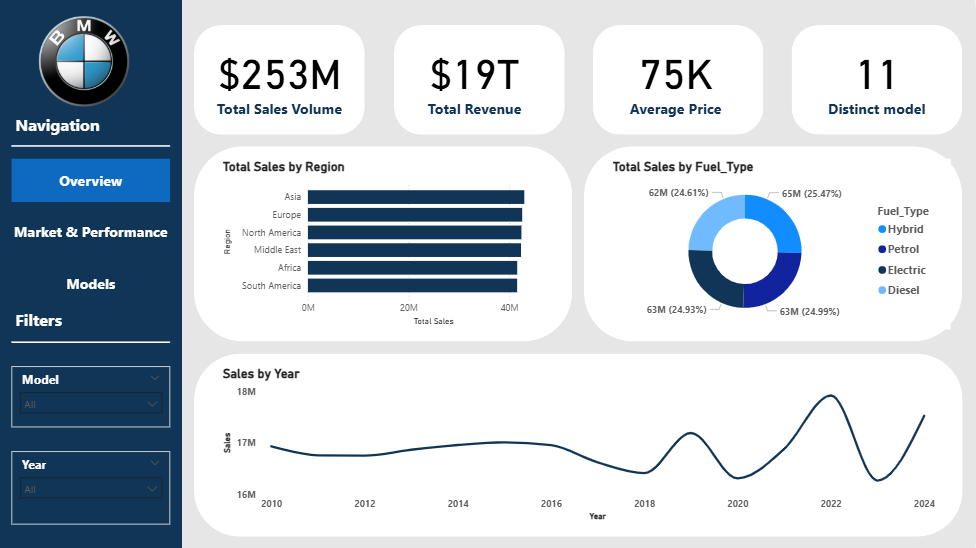

The dashboard page shown, as its layout file describes it:
{"tool":"powerbi","page":{"name":"Overview","canvas":[1280,720],"ordinal":0},"visuals":[{"type":"shape","box":[0,0,240,720],"z":0},{"type":"shape","box":[256,32,224,144],"z":1000},{"type":"shape","box":[1040,32,224,144],"z":2000},{"type":"shape","box":[517.3,32,224,144],"z":3000},{"type":"shape","box":[778.7,32,224,144],"z":4000},{"type":"shape","box":[256,192,496,256],"z":5000},{"type":"shape","box":[768,192,496,256],"z":6000},{"type":"shape","box":[256,464,1008,240],"z":7000},{"type":"textbox","box":[16,144,208,48],"z":8000},{"type":"shape","box":[16,176,208,32],"z":9000},{"type":"image","box":[48,16,128,128],"z":10000},{"type":"textbox","box":[16,400,144,64],"z":11000},{"type":"shape","box":[16,432,208,32],"z":12000},{"type":"slicer","fields":{"Values":["BMW sales data.Model"]},"box":[16,480,208,80],"z":13000},{"type":"slicer","fields":{"Values":["BMW sales data.Year"]},"box":[16,592,208,96],"z":14000},{"type":"card","fields":{"Values":["BMW sales data.Total Sales Volume"]},"box":[272,48,192,112],"z":15000},{"type":"card","fields":{"Values":["BMW sales data.Total Revenue"]},"box":[528,48,192,112],"z":16000},{"type":"card","fields":{"Values":["BMW sales data.Average Price"]},"box":[784,48,208,112],"z":17000},{"type":"card","fields":{"Values":["BMW sales data.Distinct model"]},"box":[1040,48,224,112],"z":18000},{"type":"lineChart","fields":{"Category":["BMW sales data.Year"],"Y":["Sum(BMW sales data.Sales_Volume)"]},"box":[288,480,944,208],"z":19000},{"type":"donutChart","fields":{"Y":["BMW sales data.Total Sales Volume"],"Category":["BMW sales data.Fuel_Type"]},"box":[800,208,448,224],"z":20000},{"type":"barChart","fields":{"Category":["BMW sales data.Region"],"Y":["Sum(BMW sales data.Sales_Volume)"]},"box":[288,208,464,224],"z":21000},{"type":"pageNavigator","box":[16,208,208,192],"z":22000}]}

Visuals, with their boxes in screenshot pixels (x1, y1, x2, y2), scaled from the page's 1280x720 canvas onto the 976x548 screenshot:
shape: (0,0,183,547)
shape: (195,24,366,134)
shape: (793,24,964,134)
shape: (394,24,565,134)
shape: (594,24,765,134)
shape: (195,146,573,341)
shape: (586,146,964,341)
shape: (195,353,964,536)
textbox: (12,110,171,146)
shape: (12,134,171,158)
image: (37,12,134,110)
textbox: (12,304,122,353)
shape: (12,329,171,353)
slicer - BMW sales data.Model: (12,365,171,426)
slicer - BMW sales data.Year: (12,451,171,524)
card - BMW sales data.Total Sales Volume: (207,37,354,122)
card - BMW sales data.Total Revenue: (403,37,549,122)
card - BMW sales data.Average Price: (598,37,756,122)
card - BMW sales data.Distinct model: (793,37,964,122)
lineChart - BMW sales data.Year x Sum(BMW sales data.Sales_Volume): (220,365,939,524)
donutChart - BMW sales data.Total Sales Volume x BMW sales data.Fuel_Type: (610,158,952,329)
barChart - BMW sales data.Region x Sum(BMW sales data.Sales_Volume): (220,158,573,329)
pageNavigator: (12,158,171,304)
